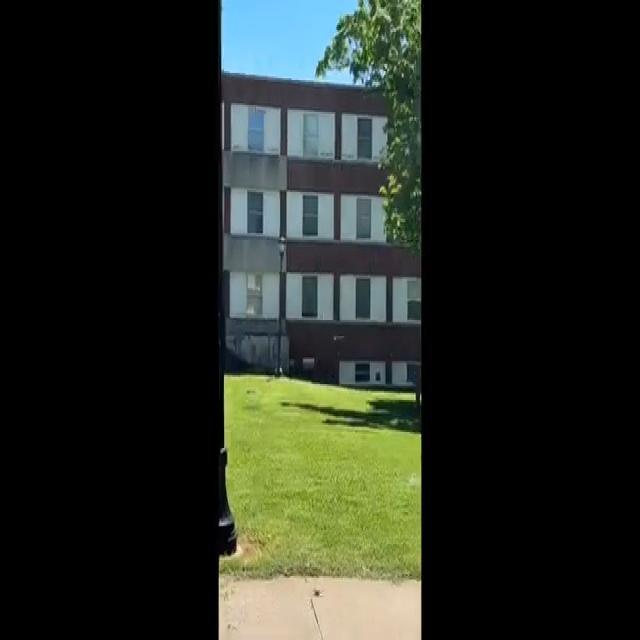drone: (329, 329, 348, 344)
